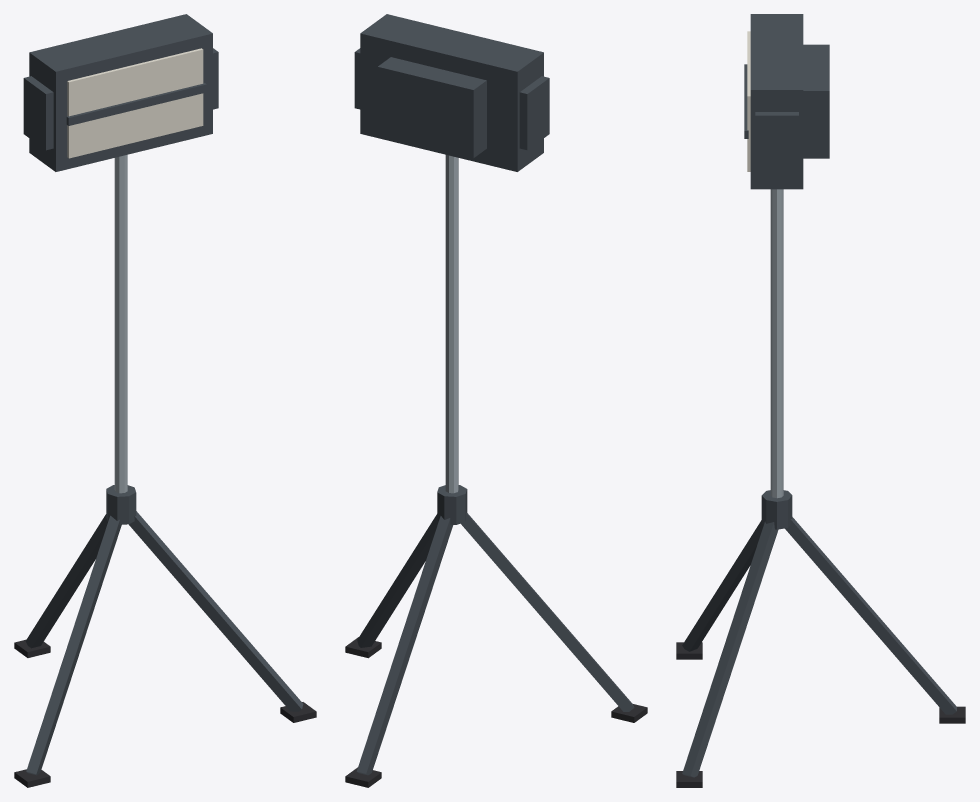
File: GL_FloodlightStand_01.glb
3 renders of one model, left to right at view 1: azimuth 30°, elevation 25°; view 2: azimuth 150°, elevation 25°; view 3: azimuth 270°, elevation 25°, orthographic.
Parts seen in each view (by area): view 1: GL_FloodlightStand_01; view 2: GL_FloodlightStand_01; view 3: GL_FloodlightStand_01.
Part boxes in pixels (left/top/right/bottom): GL_FloodlightStand_01: left=14, top=14, right=316, bottom=787; GL_FloodlightStand_01: left=345, top=14, right=647, bottom=787; GL_FloodlightStand_01: left=676, top=14, right=965, bottom=787.
Size of the model in its own units: 1.51 by 3.35 by 1.32.
1 material, 1 textured.
